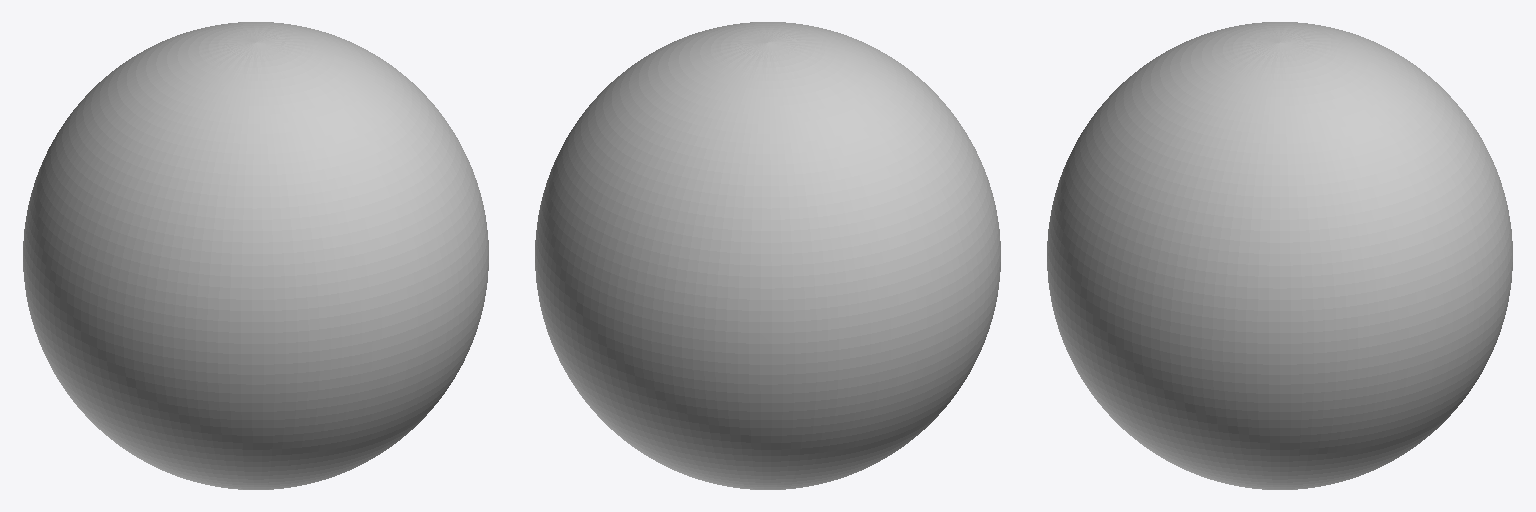
Rendered from veryHighSphere.obj.
The picture shows the model from 3 angles: view 1: azimuth 30°, elevation 25°; view 2: azimuth 150°, elevation 25°; view 3: azimuth 270°, elevation 25°; orthographic projection.
Parts seen in each view (by area): view 1: Sphere; view 2: Sphere; view 3: Sphere.
Boxes of the visible parts, x1,y1,x2,y2 form: Sphere: [23, 22, 488, 489]; Sphere: [535, 22, 1000, 489]; Sphere: [1047, 22, 1512, 489].
Bounding box in the file's own units: 1.98 × 2 × 1.98.